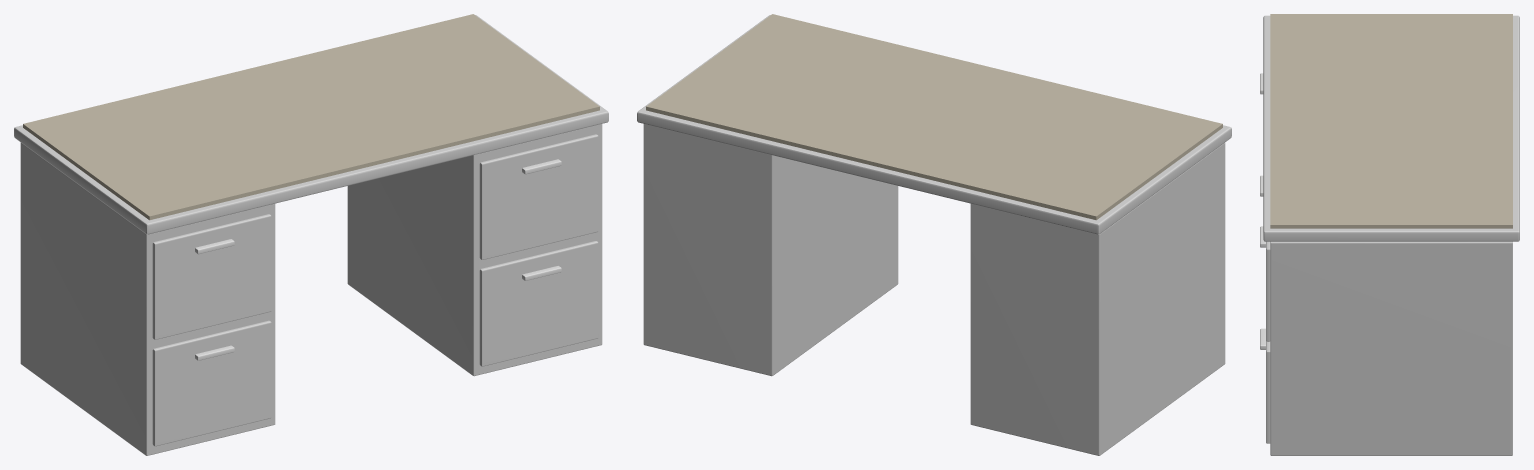
File: SM_Desk_Metal.fbx
3 views of the same model, side by side, from view 1: azimuth 30°, elevation 25°; view 2: azimuth 150°, elevation 25°; view 3: azimuth 270°, elevation 25° (orthographic). The views are drawn at different scales.
Parts seen in each view (by area): view 1: SM_Desk_Metal_1; view 2: SM_Desk_Metal_1; view 3: SM_Desk_Metal_1.
Boxes of the visible parts, left/top/right/bottom form: SM_Desk_Metal_1: left=14, top=14, right=608, bottom=455; SM_Desk_Metal_1: left=637, top=14, right=1231, bottom=455; SM_Desk_Metal_1: left=1260, top=14, right=1519, bottom=455.
Size of the model in its own units: 150 by 74.2 by 76.
